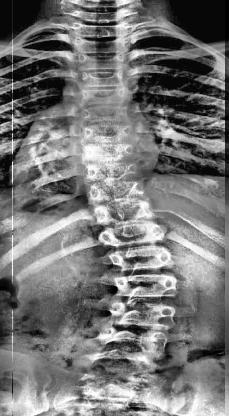Vertebrae: (90, 328, 172, 362), (91, 222, 171, 246), (112, 271, 180, 299), (108, 301, 178, 328), (104, 247, 176, 272), (85, 198, 159, 220), (84, 182, 152, 204), (83, 161, 141, 181), (81, 142, 137, 160), (71, 21, 127, 39), (80, 124, 134, 142), (78, 70, 126, 88), (76, 52, 124, 70), (80, 105, 128, 121), (78, 88, 126, 104), (72, 38, 126, 52)
